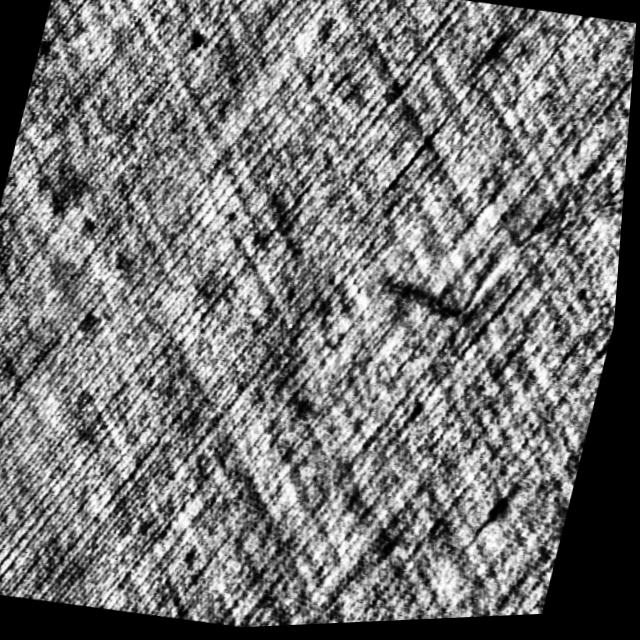Stitch: (364, 145, 630, 373)
